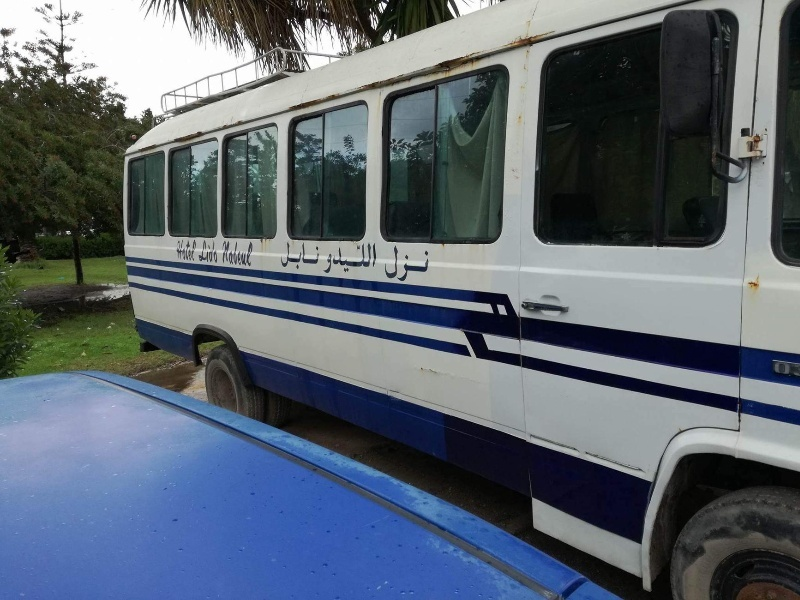text: (401, 245, 416, 284), (337, 240, 352, 276), (353, 240, 368, 276), (305, 240, 321, 271), (417, 245, 429, 284), (289, 240, 304, 271), (389, 245, 400, 284), (225, 240, 240, 267), (177, 240, 192, 262), (241, 240, 253, 267), (369, 240, 377, 276), (198, 240, 208, 264), (330, 240, 336, 276), (209, 240, 218, 264), (774, 361, 784, 375), (285, 240, 288, 271), (193, 240, 197, 262), (794, 363, 800, 377), (785, 361, 790, 375), (222, 240, 224, 267)
